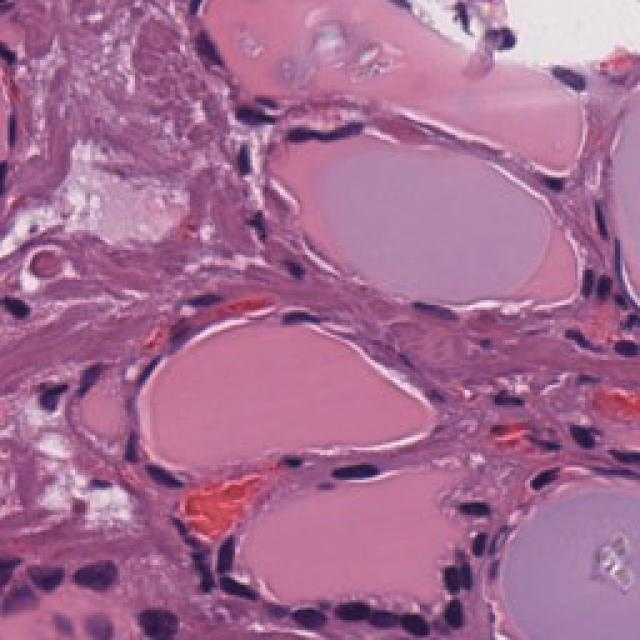normal: (275, 443, 397, 525), (210, 87, 282, 155), (122, 463, 195, 515), (398, 292, 472, 336), (380, 596, 454, 640), (210, 570, 268, 618), (277, 592, 335, 640), (319, 590, 369, 630)
